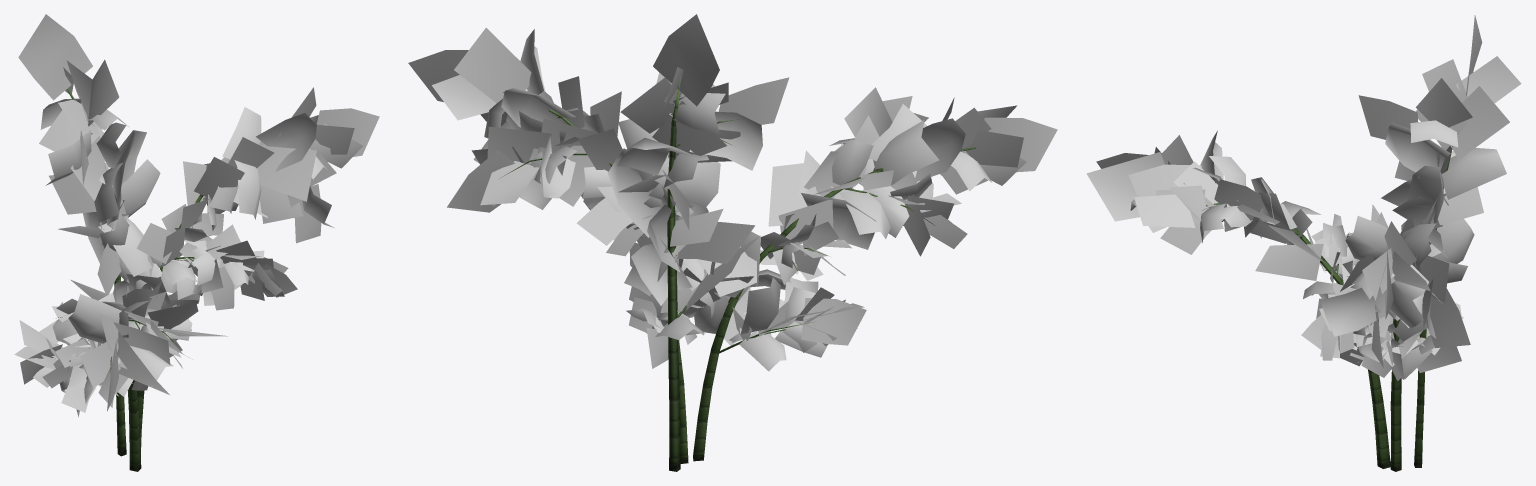
File: JiaYeSi__ZhuZi_5.FBX
3 renders of one model, left to right at view 1: azimuth 30°, elevation 25°; view 2: azimuth 150°, elevation 25°; view 3: azimuth 270°, elevation 25°, orthographic. The views are drawn at different scales.
Visible parts, largest first — view 1: JiaYeSi__ZhuZi_5b, JiaYeSi__ZhuZi_5a; view 2: JiaYeSi__ZhuZi_5b, JiaYeSi__ZhuZi_5a; view 3: JiaYeSi__ZhuZi_5b, JiaYeSi__ZhuZi_5a.
Part boxes in pixels (x1,y1,x2,y2): JiaYeSi__ZhuZi_5b: (14,14,379,417); JiaYeSi__ZhuZi_5a: (56,88,255,471); JiaYeSi__ZhuZi_5b: (408,14,1057,371); JiaYeSi__ZhuZi_5a: (499,77,976,471); JiaYeSi__ZhuZi_5b: (1086,15,1521,380); JiaYeSi__ZhuZi_5a: (1206,146,1452,471).
Size of the model in its own units: 824 by 813 by 744.
